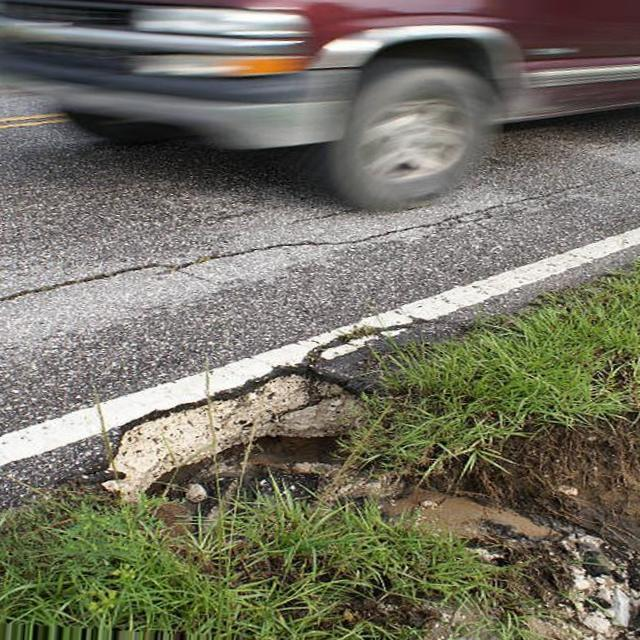Pinggir: (98, 353, 496, 575)
